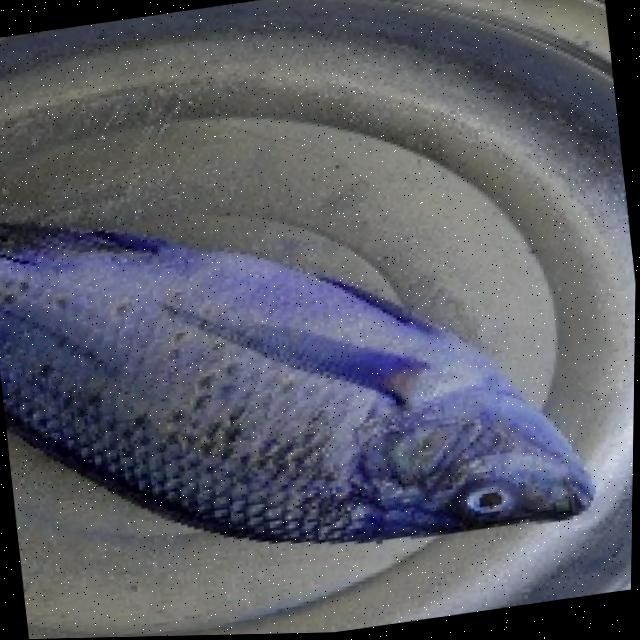Fresh: (0, 149, 604, 607)
